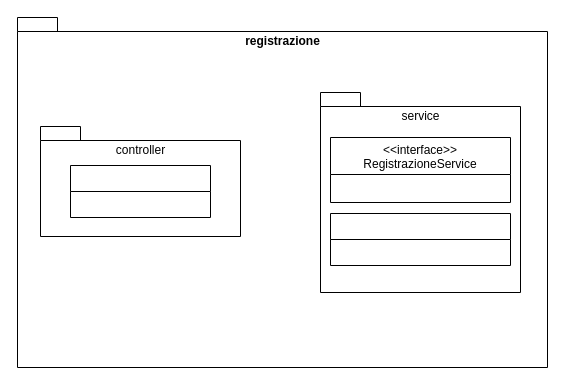
Some shapes in this 565 by 385 pixel diagram are drawn without their labels. Here are the shapes that lost their labels. From the top down, the centre of each, then its label:
[140,191]: RegistrazioneController
[420,239]: RegistrazioneServiceImpl
